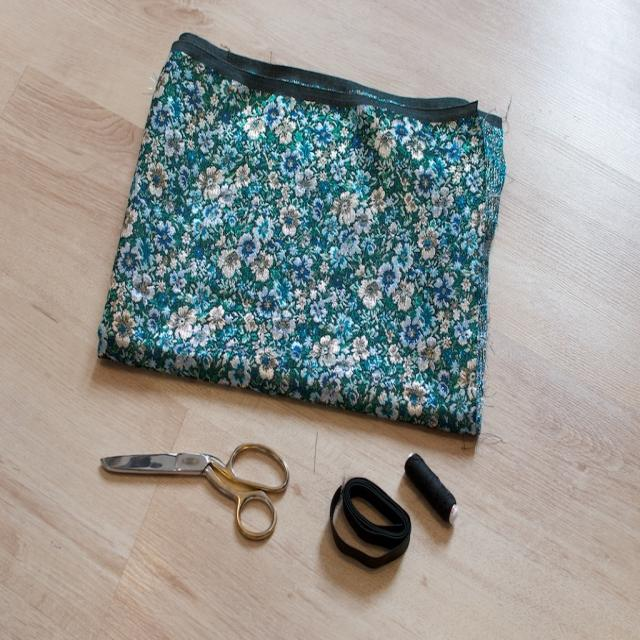scissors: (99, 442, 289, 540)
